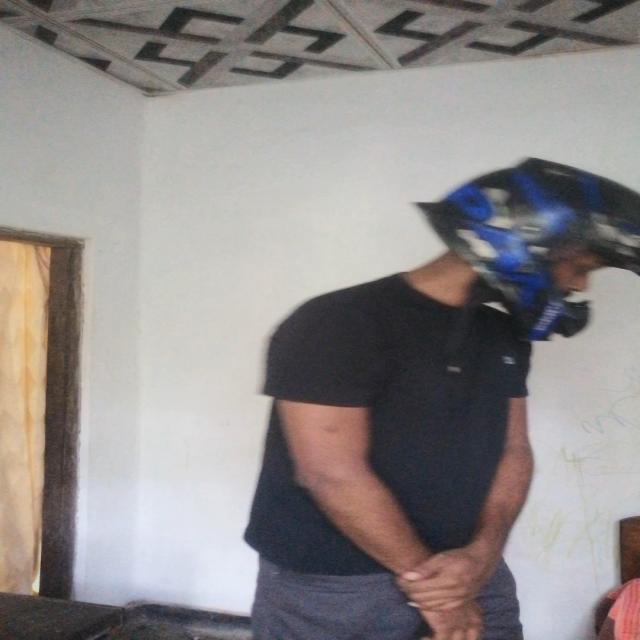Helmet_Wearer: (387, 140, 640, 351)
Person: (252, 176, 640, 640)
